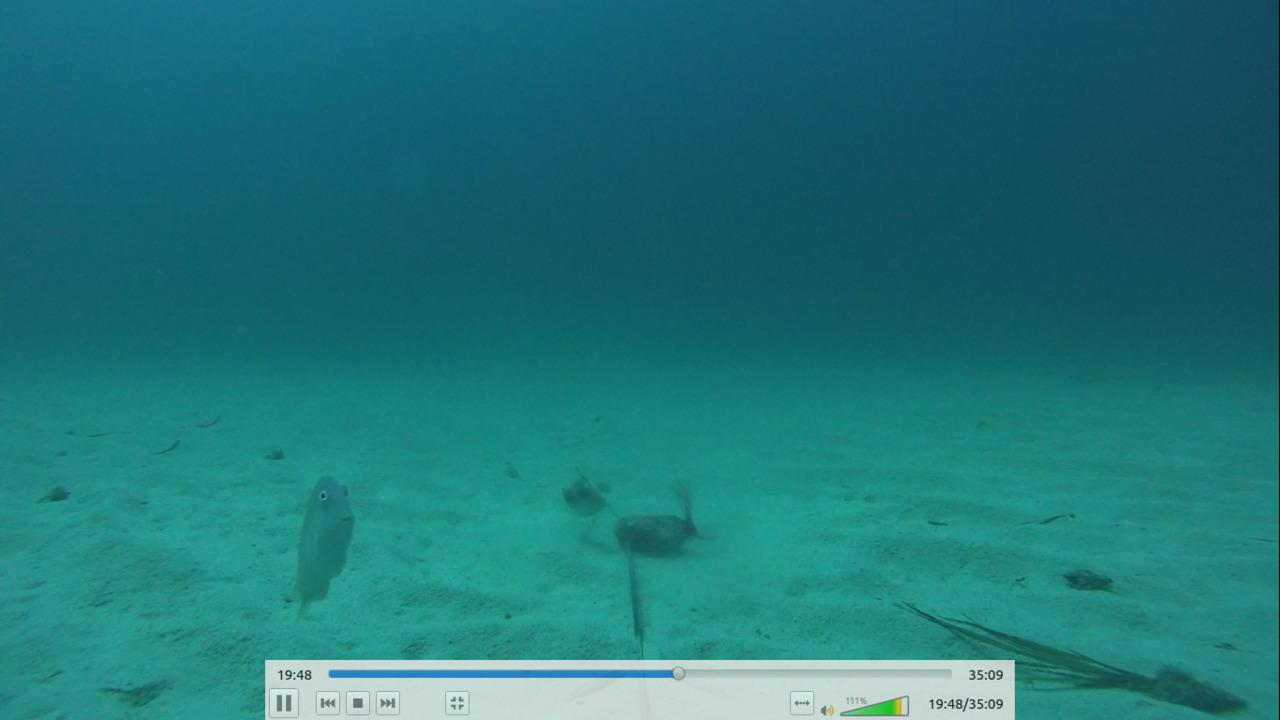raor: (285, 468, 358, 623)
